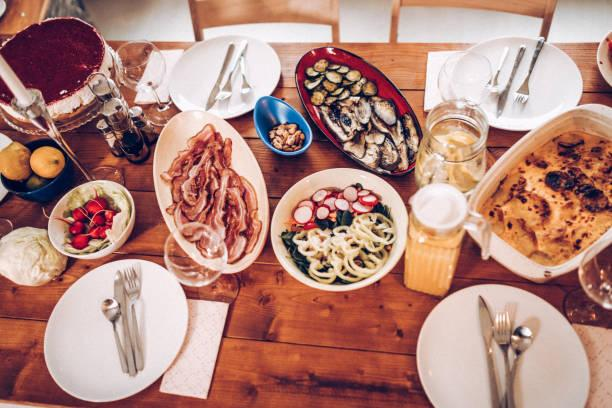Braised Crucian Carp: (466, 106, 608, 280), (150, 106, 269, 275), (270, 165, 408, 291), (294, 46, 420, 176)
